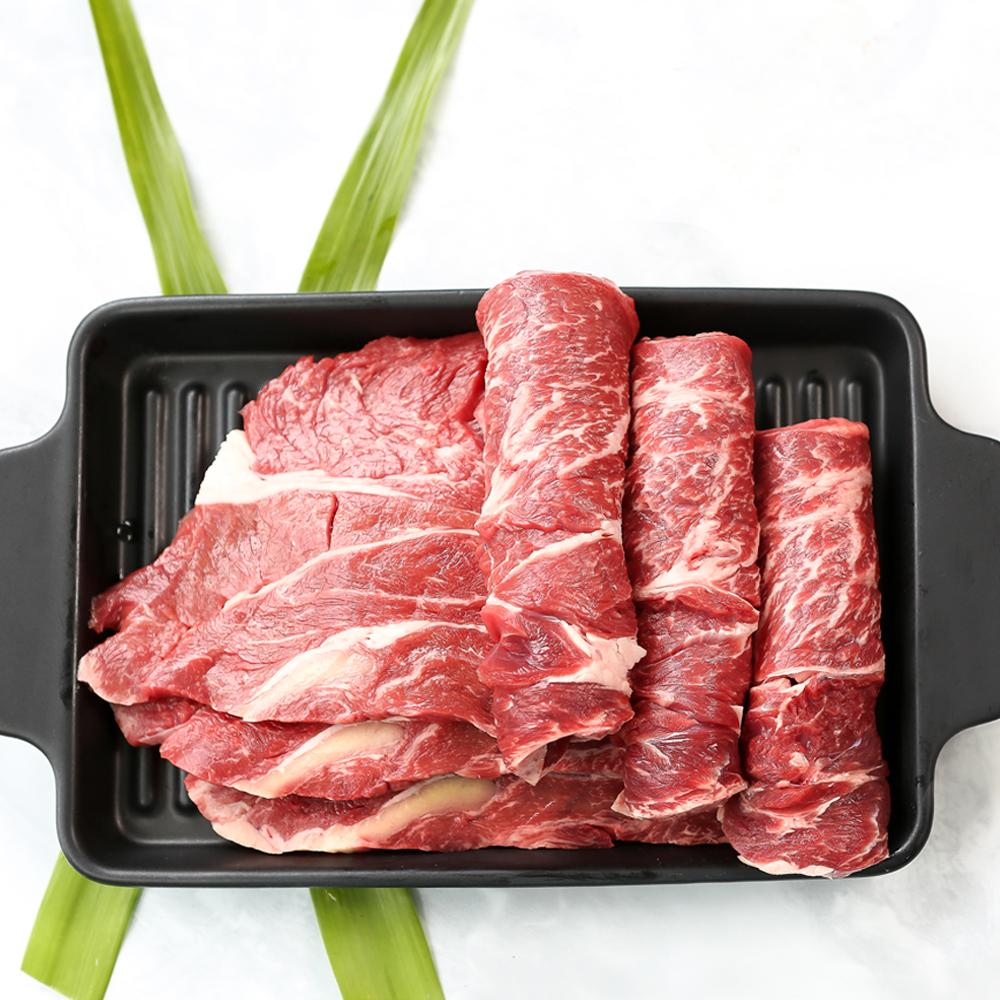beef: (780, 475, 973, 1000), (924, 569, 1000, 1000), (904, 670, 1000, 1000)
